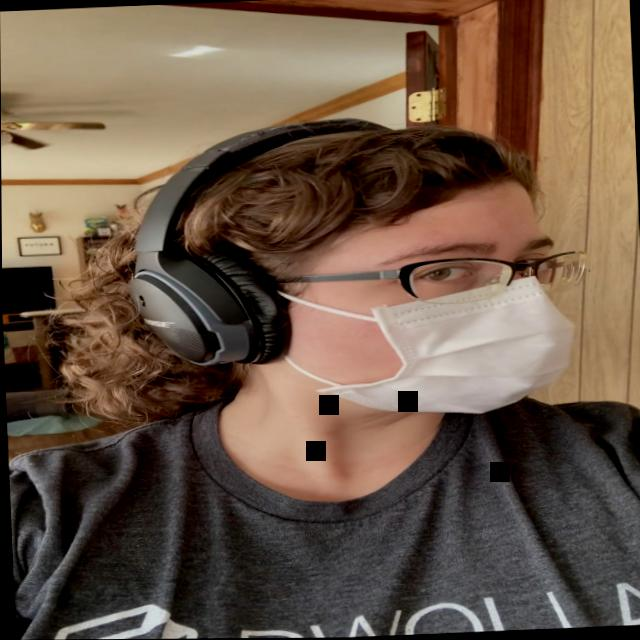Mask: (277, 174, 581, 425)
